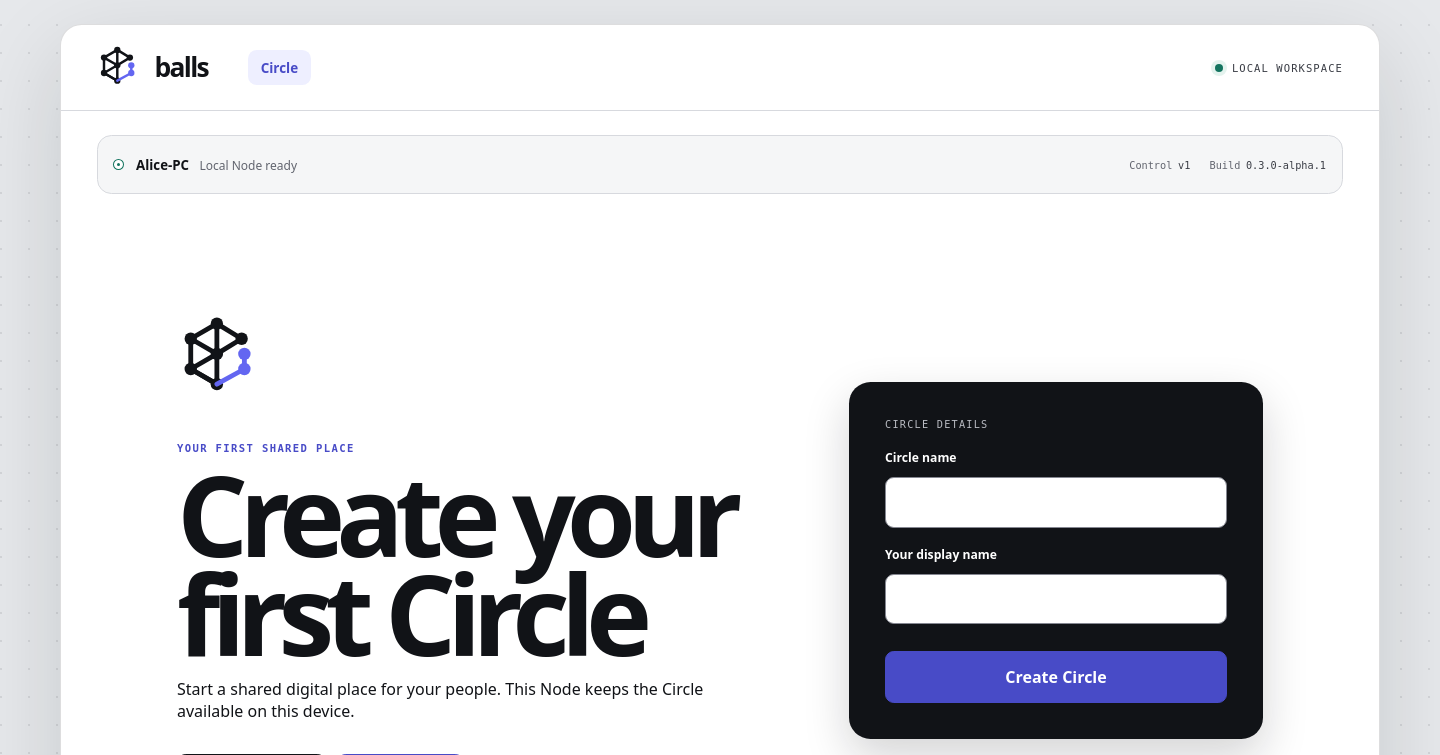
Test case: Balls browser workspace › creates a Circle and renders its Member and Node through live API results
Type "Example Studio" into the field labelled "Circle name" at (1056, 502), box [885,477,1227,528]
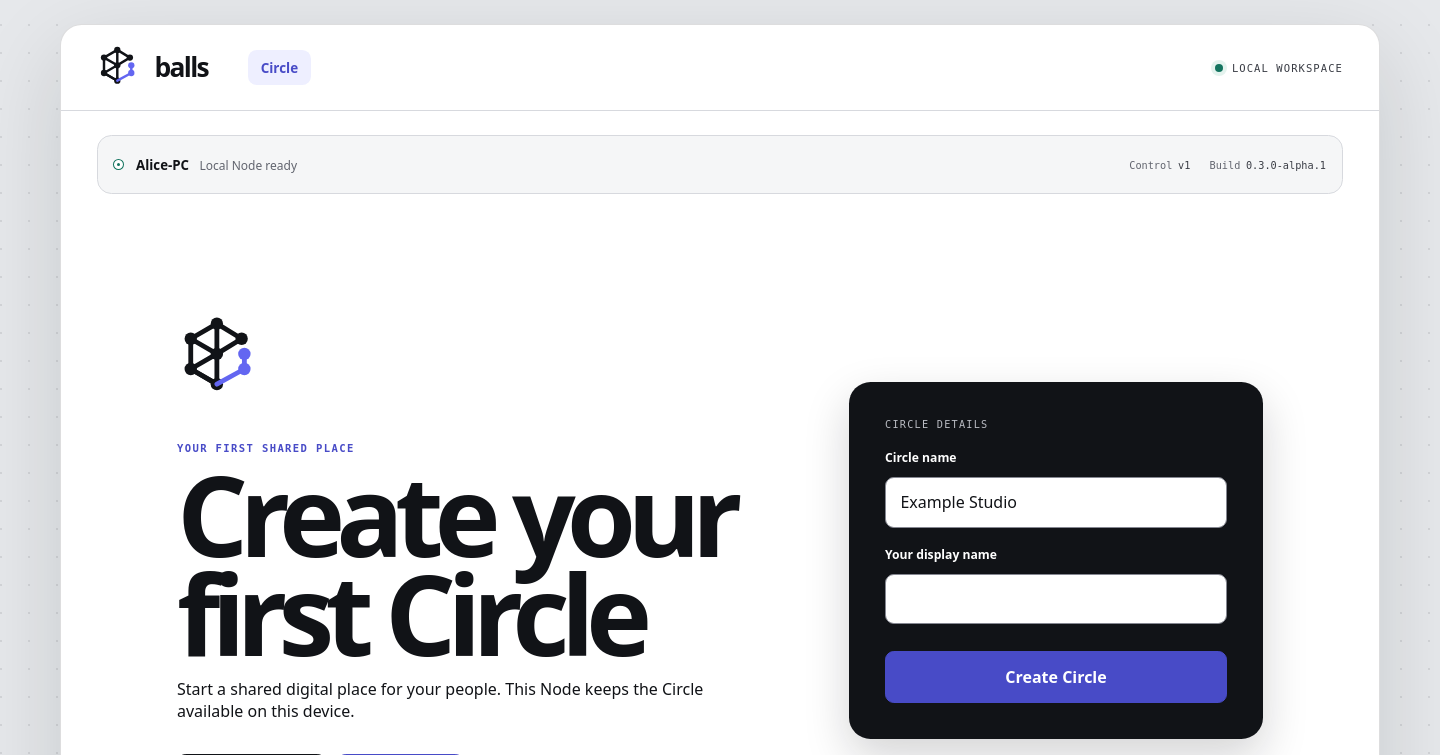
Type "Alice Morgan" into the field labelled "Your display name" at (1056, 599), box [885,574,1227,624]
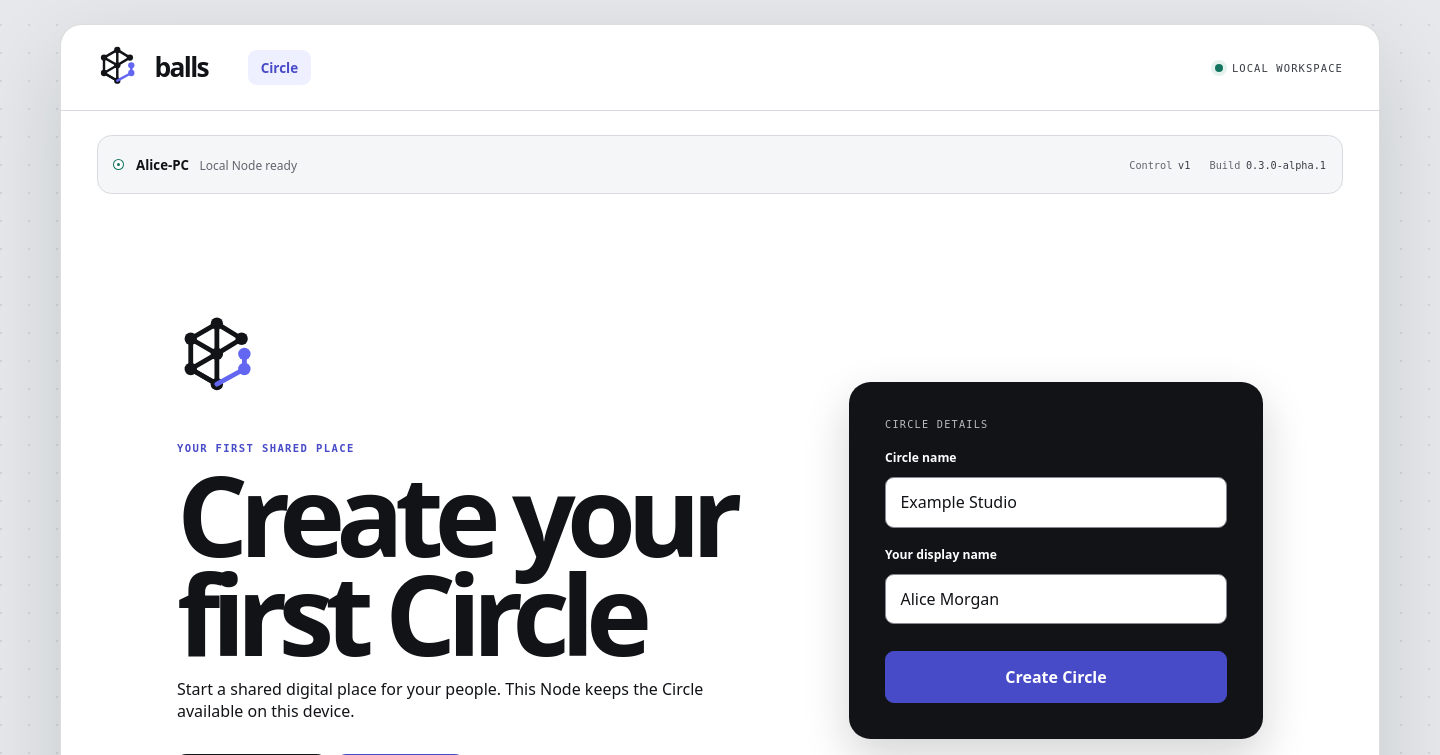
Submit the form named "Create a Circle", box [849,382,1263,740]
(page scrolled)
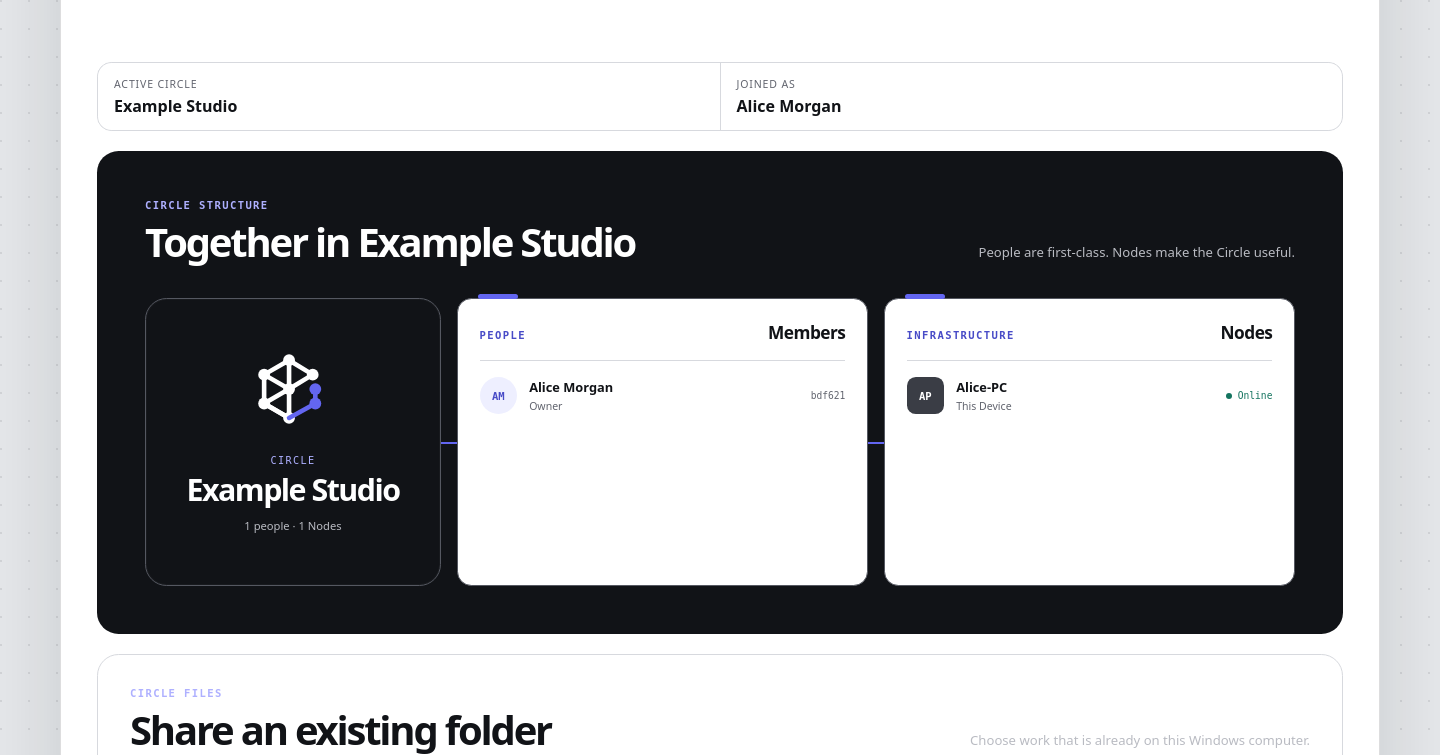
Now the text "Alice Morgan" next to "bdf621" is shown, box [529,378,613,396]
Now the text "owner" is shown, box [529,399,562,413]
Now the text "Alice-PC" is shown, box [956,378,1007,396]
